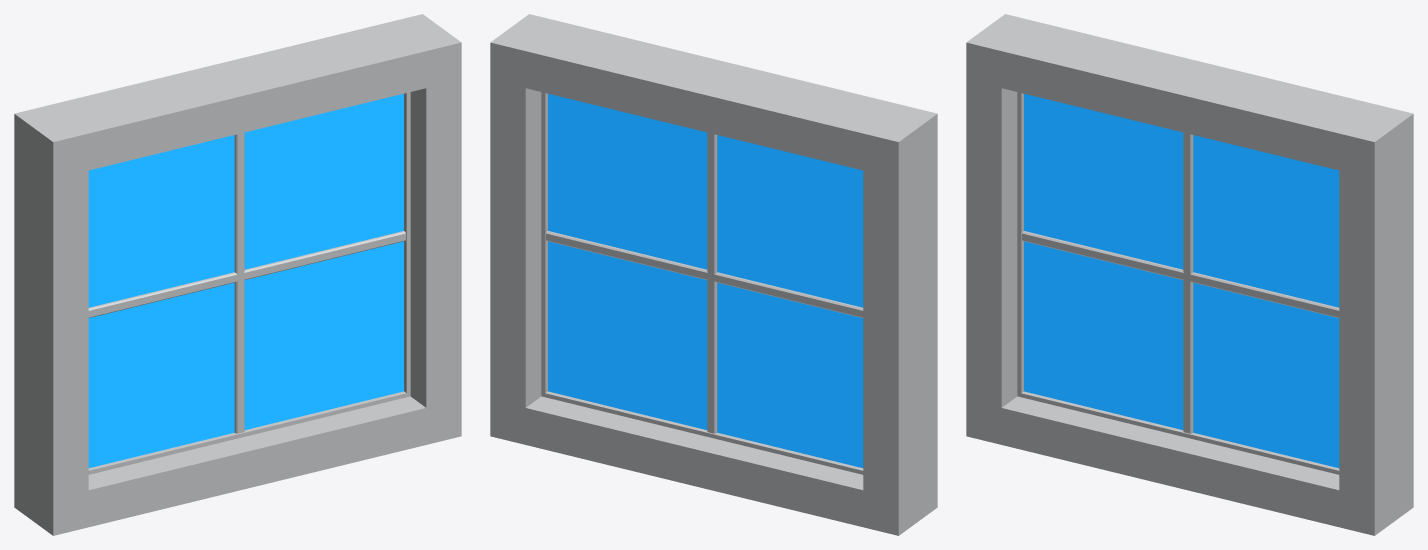
File: janela_quadrada_cruz_branca.glb
3 renders of one model, left to right at view 1: azimuth 30°, elevation 25°; view 2: azimuth 150°, elevation 25°; view 3: azimuth 330°, elevation 25°, orthographic.
Parts seen in each view (by area): view 1: janela_quadrada_cruz_branca; view 2: janela_quadrada_cruz_branca; view 3: janela_quadrada_cruz_branca.
Boxes of the visible parts, x1,y1,x2,y2 form: janela_quadrada_cruz_branca: [14, 14, 461, 535]; janela_quadrada_cruz_branca: [490, 14, 937, 535]; janela_quadrada_cruz_branca: [966, 14, 1413, 535].
Bounding box in the file's own units: 1.27 × 1.17 × 0.21.
